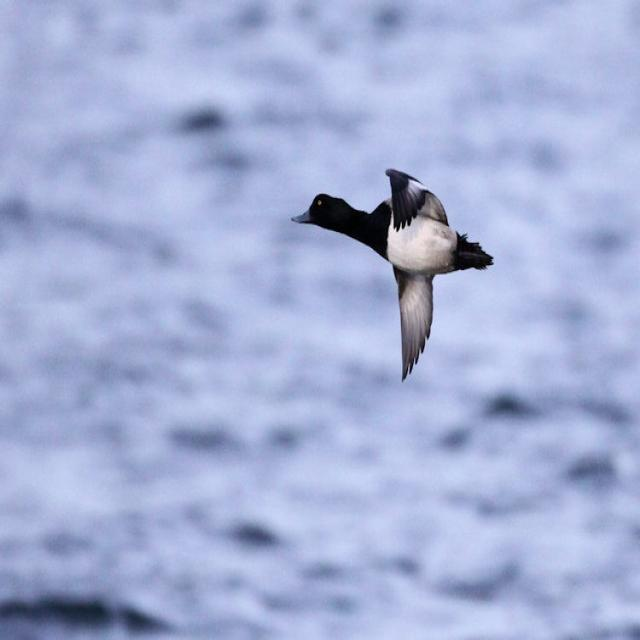bird: (284, 164, 500, 392)
